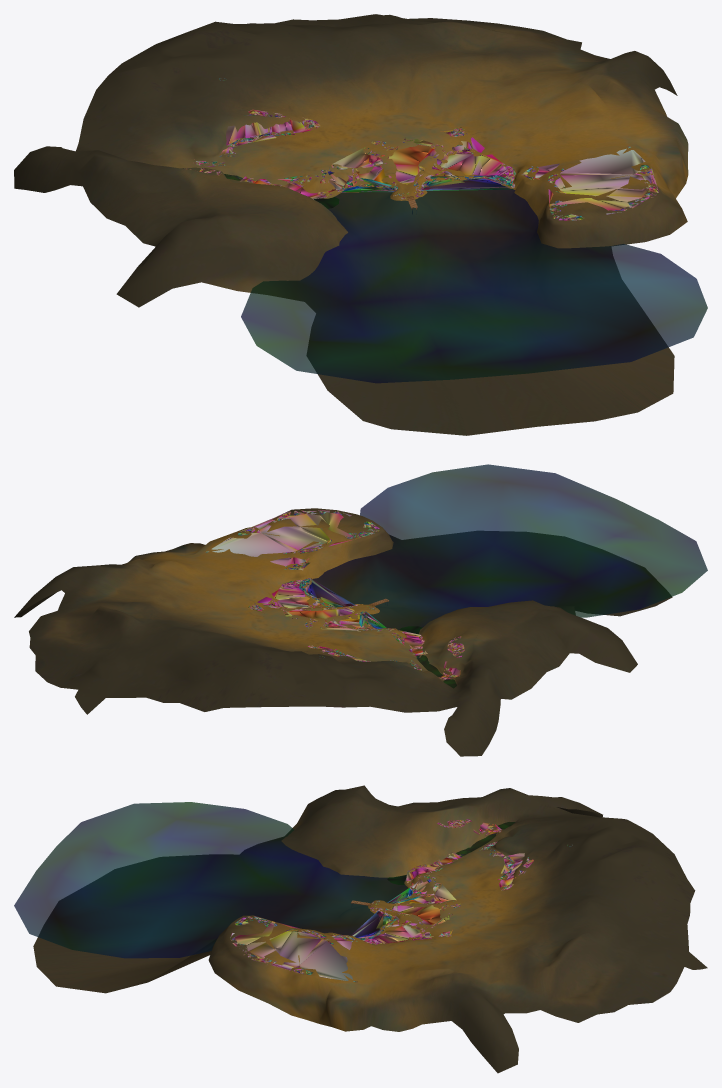
Rendered from OutletEnvironment.fbx.
3 renders of one model, top to bottom at view 1: azimuth 30°, elevation 25°; view 2: azimuth 150°, elevation 25°; view 3: azimuth 270°, elevation 25°, orthographic. The views are drawn at different scales.
Parts seen in each view (by area): view 1: EnvGround_geo, pondWater_geo, grassClusterABase_basin_inst, grassClusterABase_lightHouse_inst, grassClusterABase_rockCoveHill_inst, swampGrassABase_inst; view 2: EnvGround_geo, pondWater_geo, grassClusterABase_lightHouse_inst, grassClusterABase_basin_inst, swampGrassABase_inst; view 3: EnvGround_geo, pondWater_geo, grassClusterABase_lightHouse_inst, grassClusterABase_basin_inst, swampGrassABase_inst, grassClusterABase_rockCoveHill_inst, creekWater_geo.
Boxes of the visible parts, x1,y1,x2,y2 form: EnvGround_geo: (14,14,688,435); pondWater_geo: (241,187,707,383); grassClusterABase_basin_inst: (240,128,515,199); grassClusterABase_lightHouse_inst: (521,147,658,220); grassClusterABase_rockCoveHill_inst: (193,109,320,165); swampGrassABase_inst: (342,175,512,192); EnvGround_geo: (14,508,672,756); pondWater_geo: (313,464,707,633); grassClusterABase_lightHouse_inst: (208,509,379,570); grassClusterABase_basin_inst: (249,578,427,655); swampGrassABase_inst: (299,578,386,628); EnvGround_geo: (33,785,707,1073); pondWater_geo: (14,802,408,958); grassClusterABase_lightHouse_inst: (231,916,354,981); grassClusterABase_basin_inst: (359,852,461,944); swampGrassABase_inst: (351,888,420,939); grassClusterABase_rockCoveHill_inst: (488,842,533,890); creekWater_geo: (387,822,514,884).
Size of what is drawn, in the model's own units: 6226 by 1137 by 7162.
12 materials, 6 textured.
